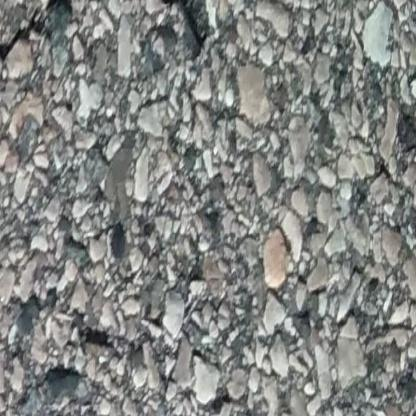Cracks: (0, 0, 224, 77)
